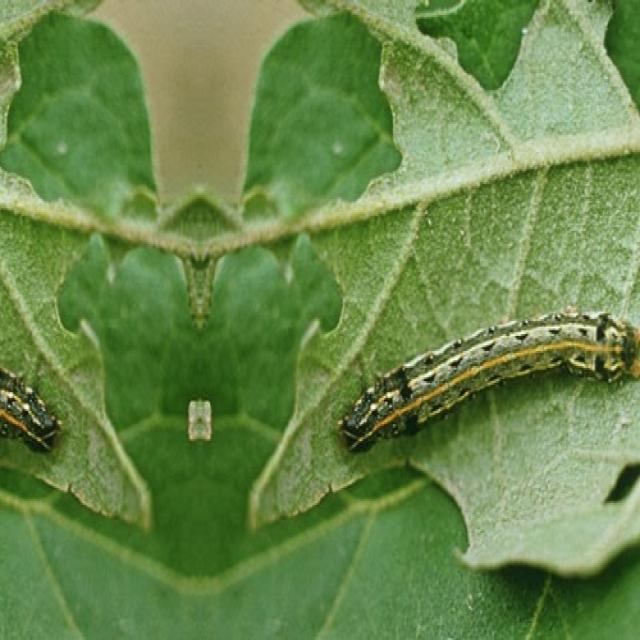Armyworm: (327, 283, 640, 479), (1, 319, 77, 485)
